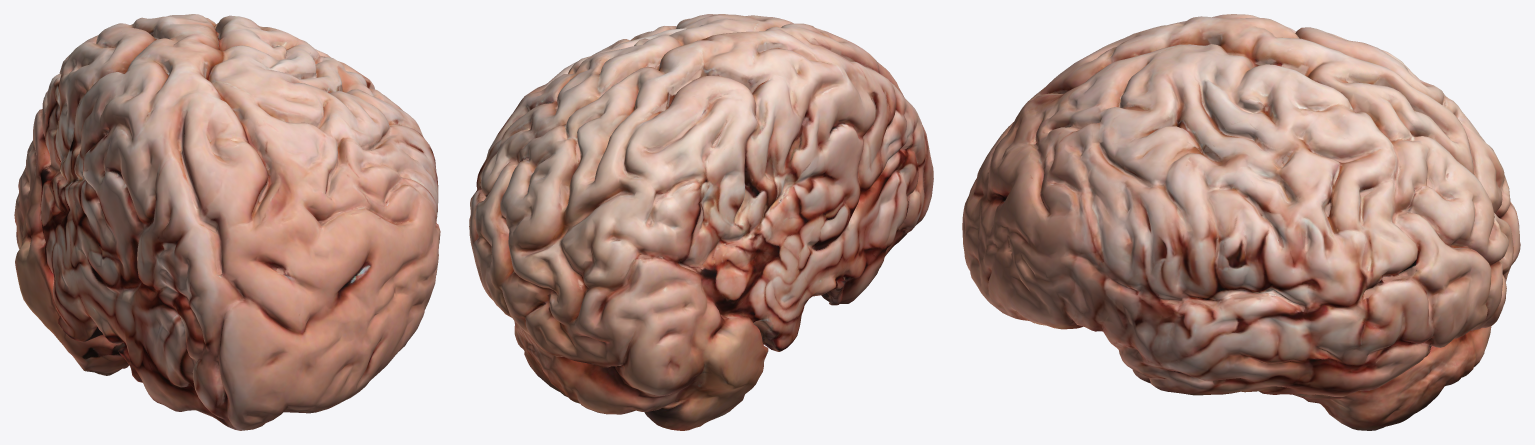
3 views of the same model, side by side, from view 1: azimuth 30°, elevation 25°; view 2: azimuth 150°, elevation 25°; view 3: azimuth 270°, elevation 25° (orthographic). The views are drawn at different scales.
Size of the model in its own units: 1.35 by 1.43 by 2.
Materials: 1 (1 with a texture image).
